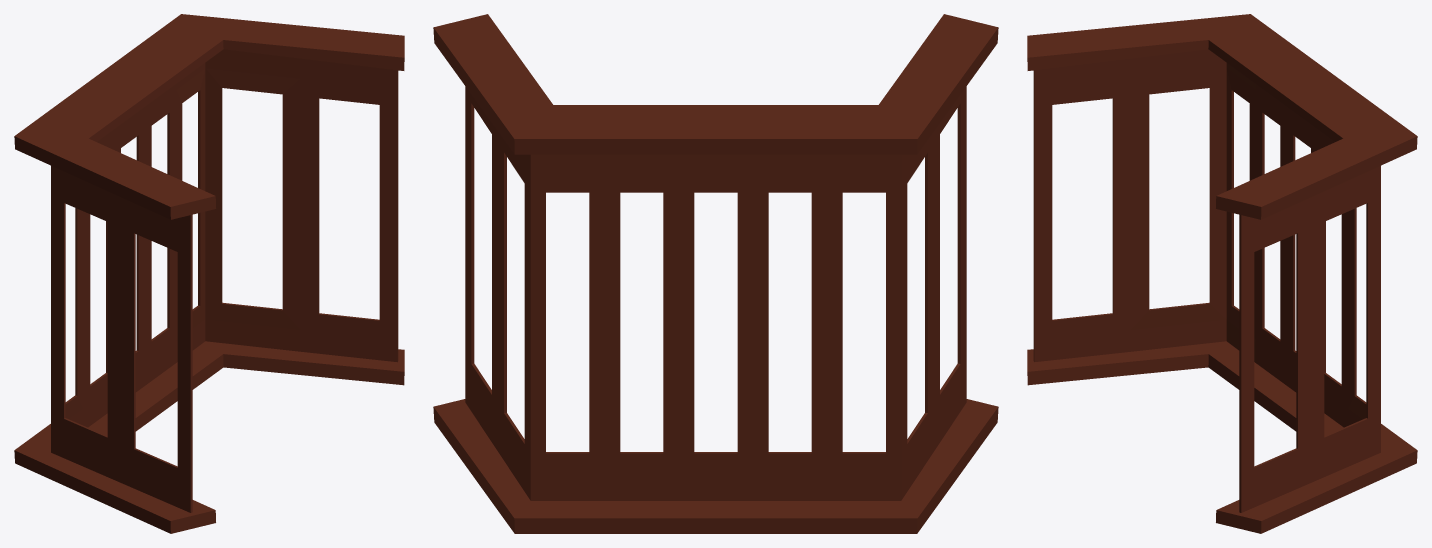
The model's file is Table_2.fbx.
3 renders of one model, left to right at view 1: azimuth 30°, elevation 25°; view 2: azimuth 150°, elevation 25°; view 3: azimuth 270°, elevation 25°, orthographic. The views are drawn at different scales.
Visible parts, largest first — view 1: Table_2; view 2: Table_2; view 3: Table_2.
Boxes of the visible parts, <box> form: Table_2: <box>14,14,404,533</box>; Table_2: <box>433,14,998,533</box>; Table_2: <box>1027,14,1417,533</box>.
Size of the model in its own units: 179 by 142 by 153.
